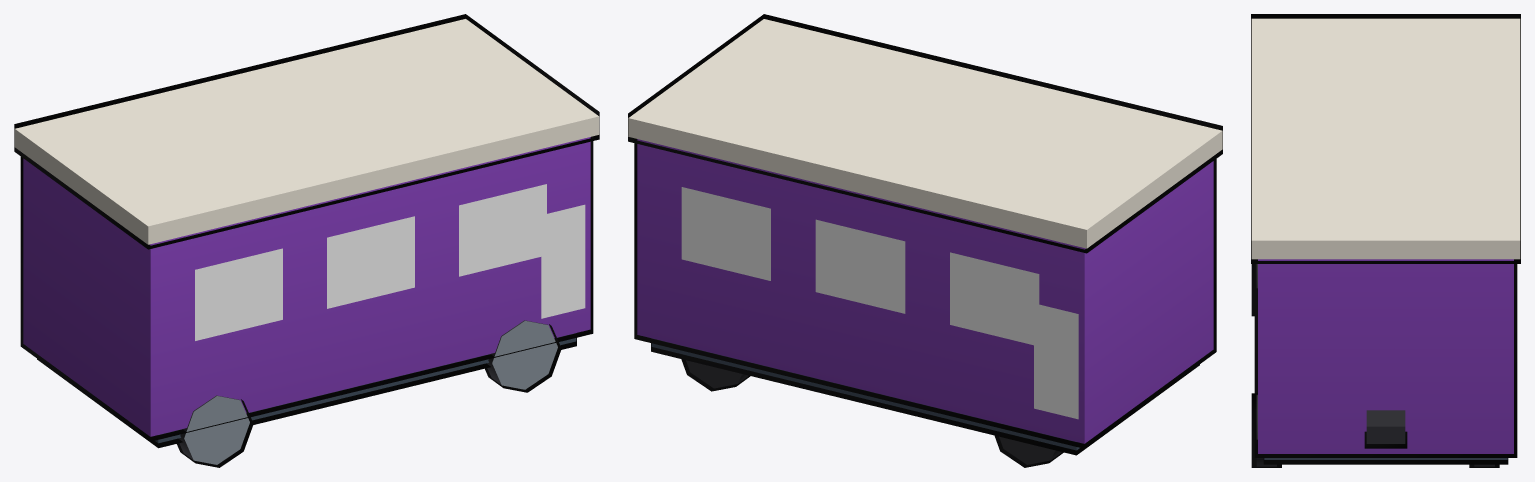
Rendered from BR_Zug_Wagen_D.glb.
3 renders of one model, left to right at view 1: azimuth 30°, elevation 25°; view 2: azimuth 150°, elevation 25°; view 3: azimuth 270°, elevation 25°, orthographic.
Parts seen in each view (by area): view 1: BR_Zug_Wagen_D_Mesh, BR_Zug_Wagen_D_Outline; view 2: BR_Zug_Wagen_D_Mesh, BR_Zug_Wagen_D_Outline; view 3: BR_Zug_Wagen_D_Mesh, BR_Zug_Wagen_D_Outline.
Part boxes in pixels (box(x1,y1,x2,y2)): BR_Zug_Wagen_D_Mesh: box(14, 19, 599, 464); BR_Zug_Wagen_D_Outline: box(14, 14, 599, 467); BR_Zug_Wagen_D_Mesh: box(628, 19, 1222, 464); BR_Zug_Wagen_D_Outline: box(628, 14, 1222, 467); BR_Zug_Wagen_D_Mesh: box(1251, 18, 1520, 466); BR_Zug_Wagen_D_Outline: box(1251, 14, 1520, 467).
Bounding box in the file's own units: 4.37 × 2.29 × 2.11.
